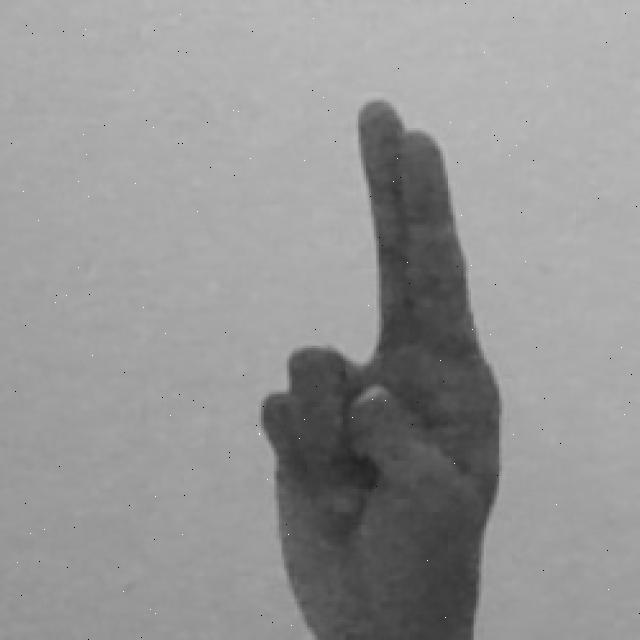U: (253, 92, 510, 640)
